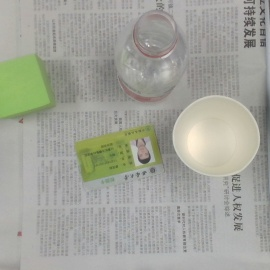bottle: (112, 11, 189, 109)
card: (75, 124, 165, 187)
cup: (171, 95, 260, 178)
